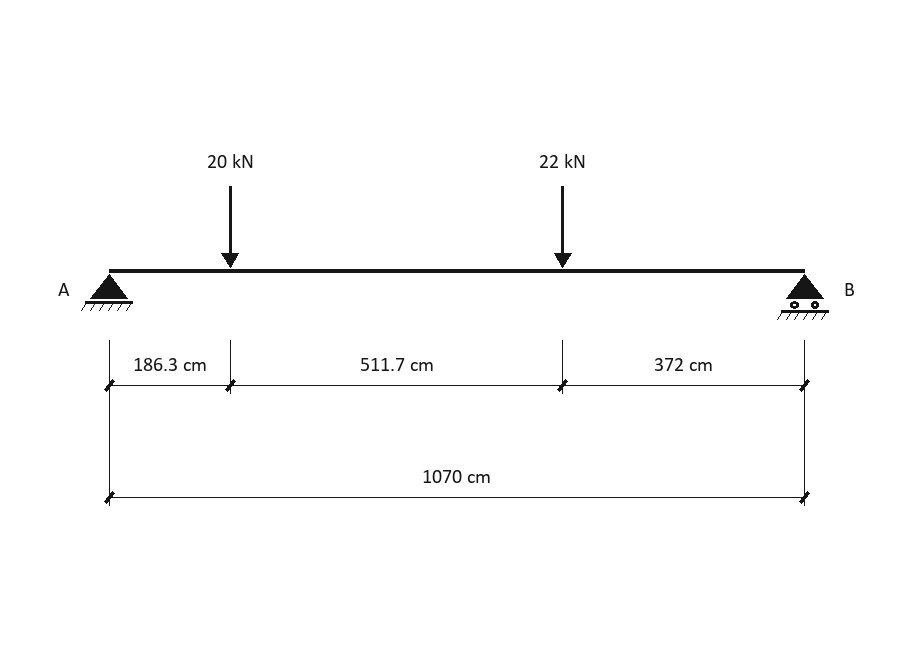pin_support: (81, 274, 133, 311)
point_load: (221, 186, 239, 268), (554, 186, 572, 268)
roller_support: (777, 274, 829, 320)
